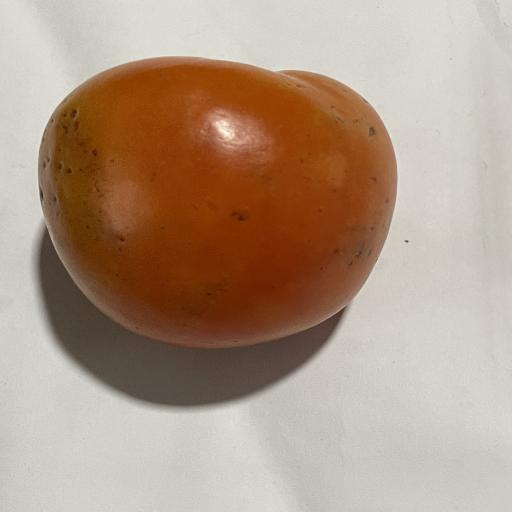ripe: (39, 57, 396, 348)
